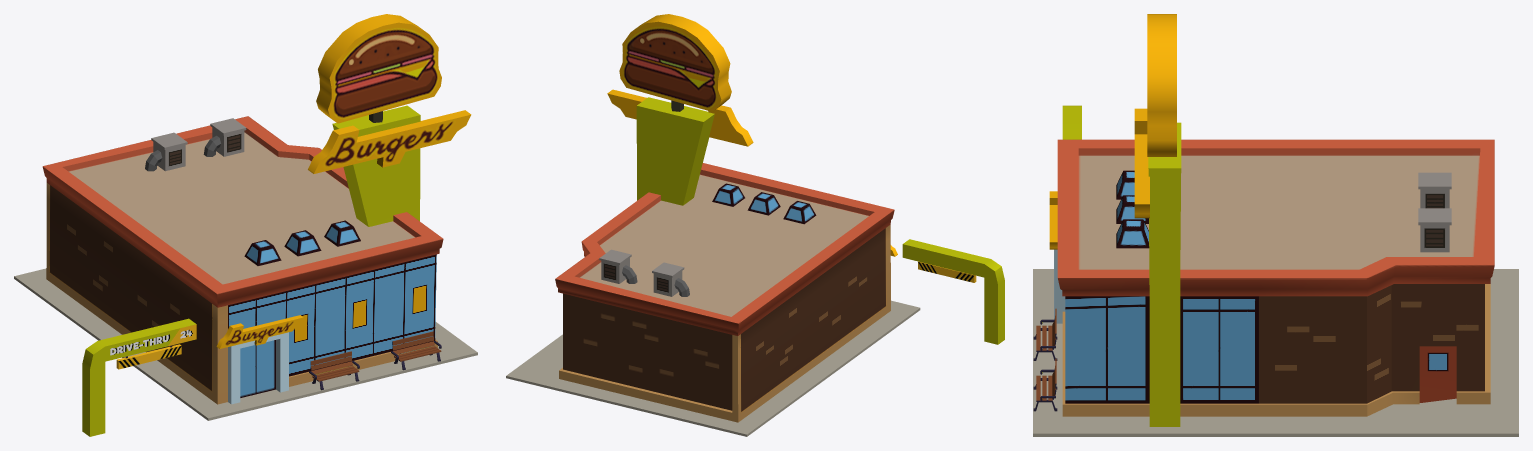
File: Tx_Exterior_Business_Burgershop_20170713.fbx
3 views of the same model, side by side, from view 1: azimuth 30°, elevation 25°; view 2: azimuth 150°, elevation 25°; view 3: azimuth 270°, elevation 25° (orthographic). The views are drawn at different scales.
Parts seen in each view (by area): view 1: Building1, Icon, Floor, Drive_thru, Sign_2, Sign_1, Bench_1, Bench_2; view 2: Building1, Icon, Floor, Drive_thru, Sign_2; view 3: Building1, Floor, Icon, Sign_2, Bench_1, Drive_thru, Bench_2, Sign_1.
Boxes of the visible parts, x1,y1,x2,y2 form: Building1: [42, 105, 443, 404]; Icon: [316, 14, 441, 123]; Floor: [14, 268, 477, 420]; Drive_thru: [82, 318, 196, 436]; Sign_2: [308, 110, 471, 173]; Sign_1: [216, 315, 303, 348]; Bench_1: [391, 331, 441, 370]; Bench_2: [309, 351, 359, 390]; Building1: [555, 97, 894, 422]; Icon: [619, 14, 731, 111]; Floor: [506, 300, 920, 436]; Drive_thru: [902, 239, 1004, 344]; Sign_2: [607, 89, 753, 146]; Building1: [1054, 122, 1494, 426]; Floor: [1033, 269, 1518, 436]; Icon: [1147, 14, 1176, 156]; Sign_2: [1134, 108, 1149, 218]; Bench_1: [1033, 358, 1057, 411]; Drive_thru: [1062, 105, 1081, 139]; Bench_2: [1033, 308, 1057, 360]; Sign_1: [1049, 191, 1057, 249].
Size of the model in its own units: 9.49 by 6.81 by 7.78.
Materials: 1 (1 with a texture image).
